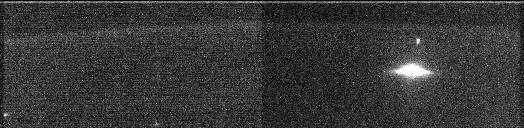positive: (412, 35, 422, 47)
